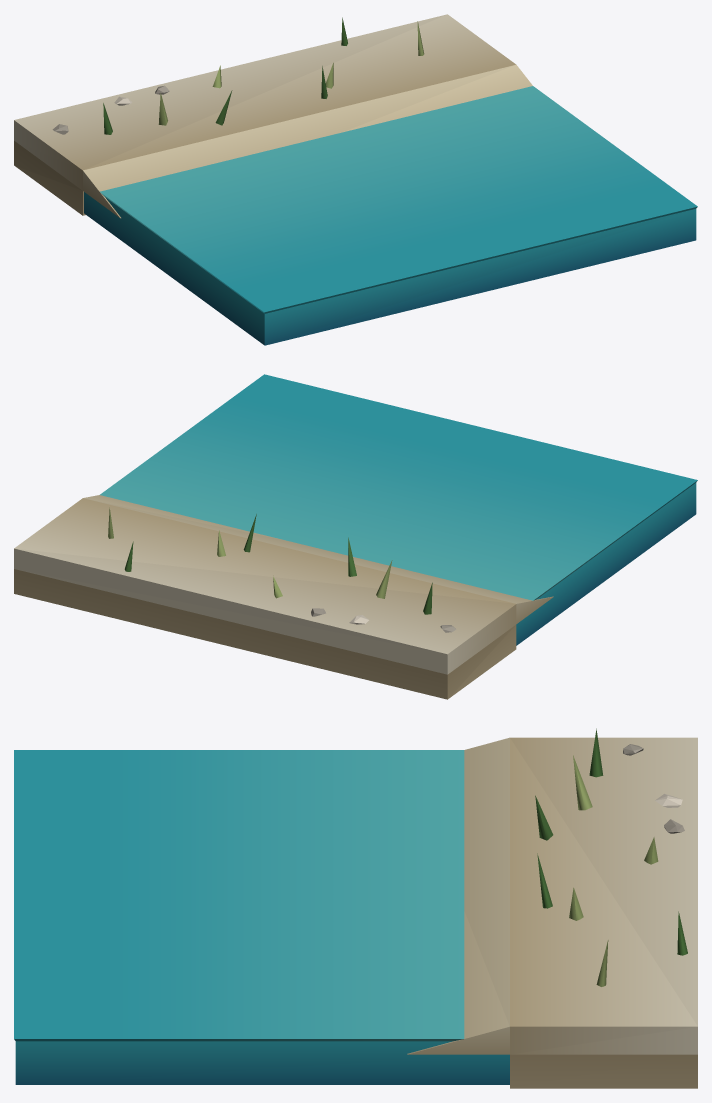
Rendered from shore-straight.glb.
The picture shows the model from 3 angles, top to bottom: view 1: azimuth 30°, elevation 25°; view 2: azimuth 150°, elevation 25°; view 3: azimuth 270°, elevation 25°; orthographic projection. The views are drawn at different scales.
Parts seen in each view (by area): view 1: shore_straight; view 2: shore_straight; view 3: shore_straight.
Part boxes in pixels (bbox=[...]): shore_straight: bbox=[14, 14, 697, 345]; shore_straight: bbox=[14, 374, 697, 699]; shore_straight: bbox=[14, 728, 697, 1088].
Size of the model in its own units: 4 by 0.7298 by 4.
